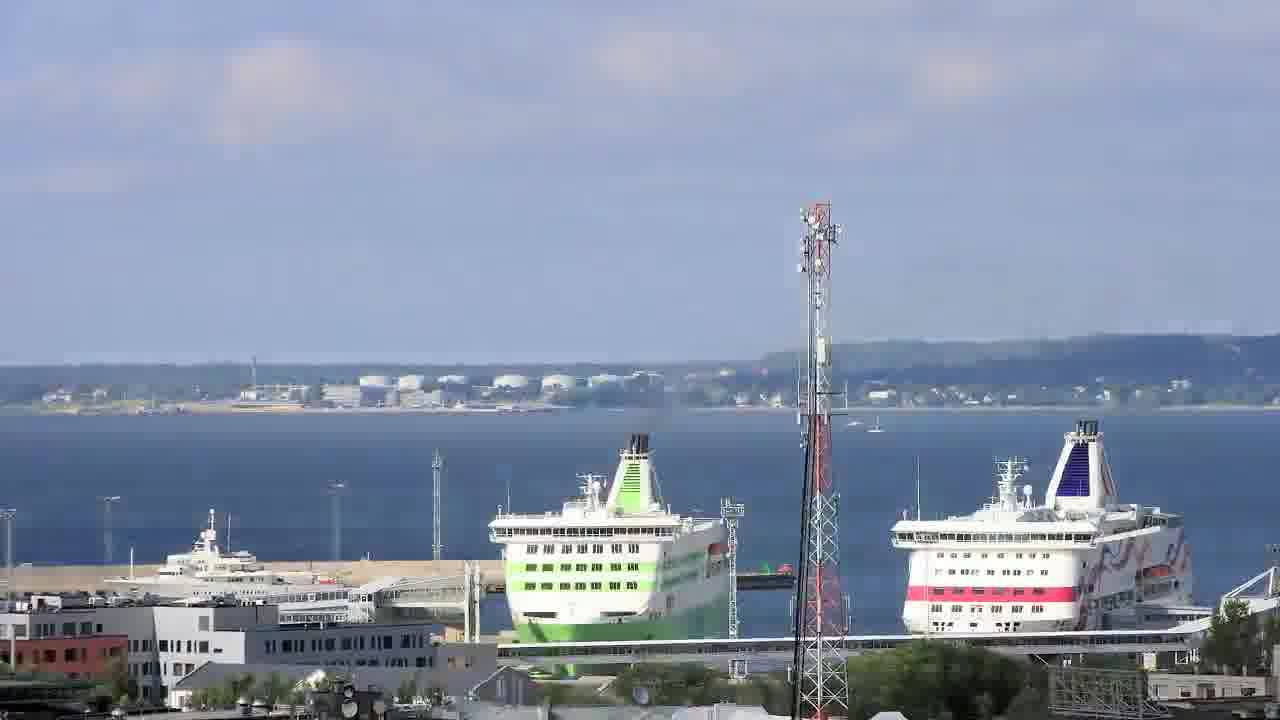type-2: (856, 407, 889, 443)
type-3: (868, 415, 1225, 638), (485, 435, 758, 670), (84, 511, 353, 609)
